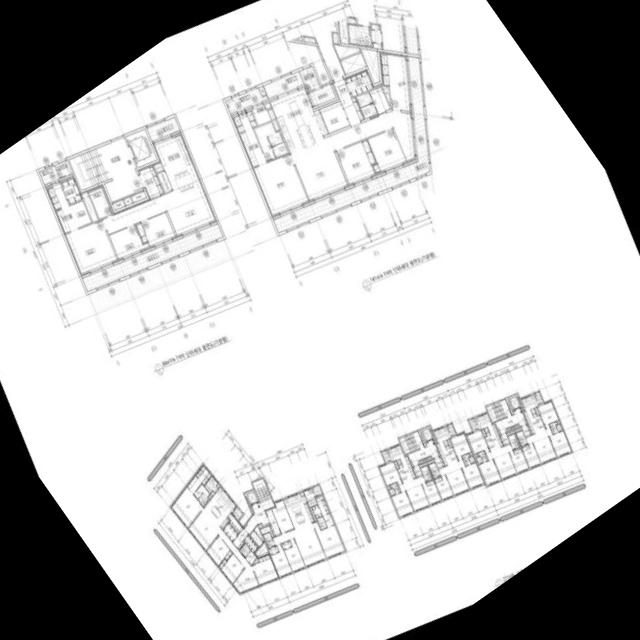background: (0, 0, 640, 640)
space_balconi: (272, 55, 429, 232), (81, 223, 222, 291), (224, 87, 267, 113), (263, 71, 303, 97), (146, 116, 179, 141), (38, 165, 58, 184), (231, 506, 242, 520), (311, 484, 321, 496)
space_bedroom: (252, 153, 308, 216), (64, 220, 117, 275), (379, 51, 410, 111), (367, 128, 406, 174), (336, 139, 375, 185), (108, 224, 149, 259), (135, 212, 175, 247), (170, 486, 202, 527), (312, 521, 344, 557), (319, 100, 349, 132), (251, 553, 278, 585), (217, 553, 244, 583), (206, 535, 232, 565), (270, 499, 293, 532), (283, 538, 305, 571), (270, 543, 291, 577), (390, 490, 413, 517), (449, 432, 471, 460), (536, 400, 558, 428), (477, 459, 500, 485), (548, 430, 571, 456), (461, 462, 484, 488), (465, 429, 489, 453), (378, 461, 401, 485), (508, 447, 528, 473), (433, 474, 453, 499), (521, 443, 540, 468), (421, 479, 440, 504), (268, 545, 278, 554), (281, 540, 291, 549)
space_dressroom: (238, 128, 265, 167), (230, 108, 256, 133), (44, 183, 68, 210), (59, 175, 81, 203), (195, 464, 211, 485), (315, 495, 328, 515), (311, 504, 321, 517)
space_elevator: (125, 128, 156, 166), (507, 394, 522, 410), (420, 426, 434, 442), (244, 489, 258, 505)
space_elevator_hall: (99, 137, 143, 202), (243, 468, 273, 534), (407, 431, 438, 465), (495, 399, 526, 433)
space_front: (331, 78, 363, 127), (137, 164, 163, 198), (344, 69, 373, 96), (265, 508, 280, 535), (232, 528, 247, 548), (222, 522, 237, 541), (243, 534, 257, 552), (412, 464, 422, 477), (499, 432, 509, 445), (433, 455, 443, 468), (521, 424, 531, 436)
space_kitchen: (269, 86, 327, 153), (152, 132, 199, 190), (203, 486, 236, 528), (282, 492, 313, 529), (386, 444, 415, 483), (473, 412, 502, 451), (520, 393, 545, 433), (432, 425, 457, 465)
space_living_room: (290, 110, 415, 201), (102, 179, 216, 236), (187, 507, 258, 593), (272, 522, 325, 566), (485, 443, 516, 479), (398, 475, 429, 511), (525, 427, 556, 463), (438, 459, 468, 495)
space_multipurpose_space: (251, 100, 270, 124)
space_other: (303, 21, 344, 79), (360, 48, 379, 83), (339, 52, 366, 74), (308, 84, 335, 105), (80, 190, 97, 221), (333, 44, 359, 59), (156, 170, 171, 192), (227, 512, 242, 533), (303, 487, 316, 506), (267, 108, 278, 130), (204, 475, 217, 493), (249, 530, 262, 546), (130, 190, 146, 202), (255, 541, 267, 555), (253, 525, 263, 541), (259, 525, 273, 536), (382, 85, 389, 104), (111, 199, 124, 209), (417, 430, 425, 445), (505, 398, 512, 414), (152, 161, 162, 172), (309, 507, 316, 520), (122, 196, 132, 205), (303, 36, 315, 42), (258, 85, 265, 95), (207, 490, 214, 498), (332, 32, 337, 43), (418, 461, 426, 467), (513, 426, 521, 432), (393, 460, 398, 468), (446, 439, 451, 447), (426, 458, 434, 463), (534, 407, 539, 415), (506, 430, 513, 435), (481, 428, 485, 436), (249, 506, 253, 514), (252, 558, 258, 563), (257, 523, 262, 527), (299, 491, 303, 496), (426, 455, 431, 459), (473, 453, 477, 457), (510, 425, 514, 429), (505, 427, 510, 430), (418, 459, 423, 462), (422, 457, 427, 460), (216, 483, 219, 488), (469, 451, 472, 455), (514, 424, 518, 427), (556, 419, 559, 423), (520, 407, 523, 410), (386, 485, 389, 488), (433, 439, 435, 441)
space_outdoor_room: (299, 66, 319, 90), (54, 160, 72, 177), (534, 391, 543, 404), (468, 417, 477, 430), (446, 423, 455, 436), (381, 449, 390, 462)
space_staircase: (68, 146, 111, 189), (485, 401, 505, 421), (398, 433, 418, 453), (256, 477, 270, 500)
space_toilet: (253, 121, 287, 160), (55, 200, 90, 233), (88, 187, 111, 218), (368, 86, 389, 113), (193, 483, 209, 506), (355, 91, 372, 107), (360, 102, 376, 118), (186, 475, 200, 493), (507, 433, 519, 449), (262, 532, 274, 547), (515, 430, 527, 445), (420, 465, 431, 481), (428, 462, 439, 477), (245, 550, 256, 564), (322, 513, 333, 526), (476, 450, 487, 461), (389, 482, 400, 493), (461, 453, 470, 465), (548, 421, 557, 433), (242, 543, 250, 553), (239, 546, 247, 556), (318, 521, 326, 529), (388, 487, 395, 495), (316, 516, 324, 523), (468, 455, 474, 463), (555, 423, 561, 431), (476, 456, 482, 463)
